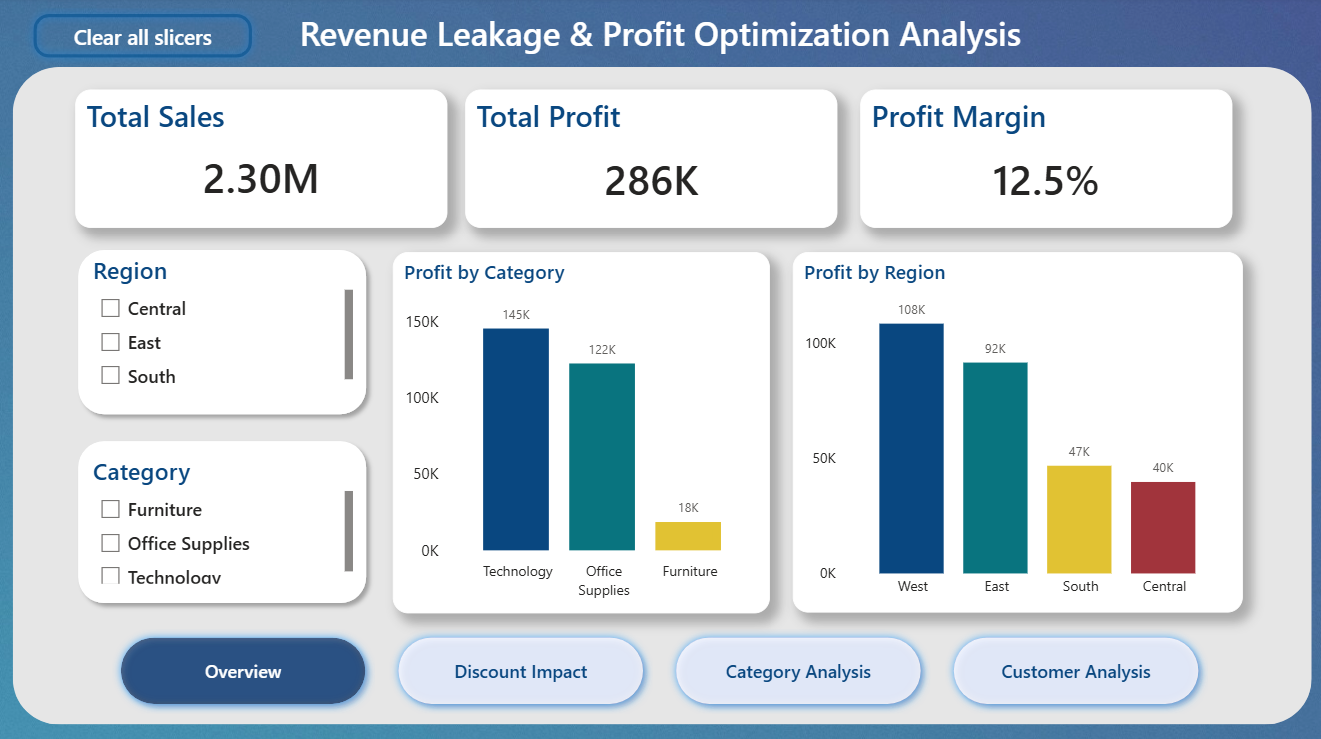

The dashboard page shown, as its layout file describes it:
{"tool":"powerbi","page":{"name":"Overview","canvas":[1280,720],"ordinal":0},"visuals":[{"type":"shape","box":[13.4,67,1253.6,634.6],"z":0},{"type":"card","title":"Total Sales","fields":{"Values":["Sum(revenue analysis.Sales)"]},"box":[73,88.8,359,133.9],"z":1000},{"type":"card","title":"Total Profit","fields":{"Values":["Sum(revenue analysis.Profit)"]},"box":[450.3,88.8,359,133.9],"z":2000},{"type":"card","title":"Profit Margin","fields":{"Values":["revenue analysis.Profit Margin"]},"box":[831.2,88.8,359,133.9],"z":3000},{"type":"clusteredColumnChart","title":" Profit by Category","fields":{"Category":["revenue analysis.Category"],"Y":["Sum(revenue analysis.Profit)"]},"box":[379.9,245.8,364.2,348.6],"z":4000},{"type":"clusteredColumnChart","title":"Profit by Region","fields":{"Category":["revenue analysis.Region"],"Y":["Sum(revenue analysis.Profit)"]},"box":[766.7,245.8,434.5,348.1],"z":5000},{"type":"textbox","box":[271.4,8.5,733.8,58.4],"z":6000},{"type":"actionButton","box":[25.3,8.4,226.8,57.9],"z":7000},{"type":"shape","box":[68.2,234.9,295.7,176.5],"z":7000,"group":"g1"},{"type":"slicer","title":"Region","fields":{"Values":["revenue analysis.Region"]},"box":[85.7,247.5,260.7,147],"z":8000,"group":"g1"},{"type":"pageNavigator","box":[108.6,609.3,1061.7,82],"z":8000},{"type":"group","id":"g1","title":"Group 1","box":[68.2,234.9,295.7,176.5],"z":9000},{"type":"shape","box":[68.2,419.9,295.7,174],"z":9000,"group":"g2"},{"type":"group","id":"g2","title":"Group 2","box":[68.2,419.9,295.7,174],"z":10000},{"type":"slicer","title":"Category","fields":{"Values":["revenue analysis.Category"]},"box":[85.7,441.9,260.7,130],"z":11000,"group":"g2"}]}

Visuals, with their boxes in screenshot pixels (x1, y1, x2, y2), scaled from the page's 1280x720 canvas onto the 1321x739 screenshot:
shape: (14, 69, 1308, 720)
"Total Sales" card: (75, 91, 446, 229)
"Total Profit" card: (465, 91, 835, 229)
"Profit Margin" card: (858, 91, 1228, 229)
" Profit by Category" clusteredColumnChart: (392, 252, 768, 610)
"Profit by Region" clusteredColumnChart: (791, 252, 1240, 610)
textbox: (280, 9, 1037, 69)
actionButton: (26, 9, 260, 68)
shape: (70, 241, 376, 422)
"Region" slicer: (88, 254, 357, 405)
pageNavigator: (112, 625, 1208, 710)
"Group 1" group: (70, 241, 376, 422)
shape: (70, 431, 376, 610)
"Group 2" group: (70, 431, 376, 610)
"Category" slicer: (88, 454, 357, 587)
